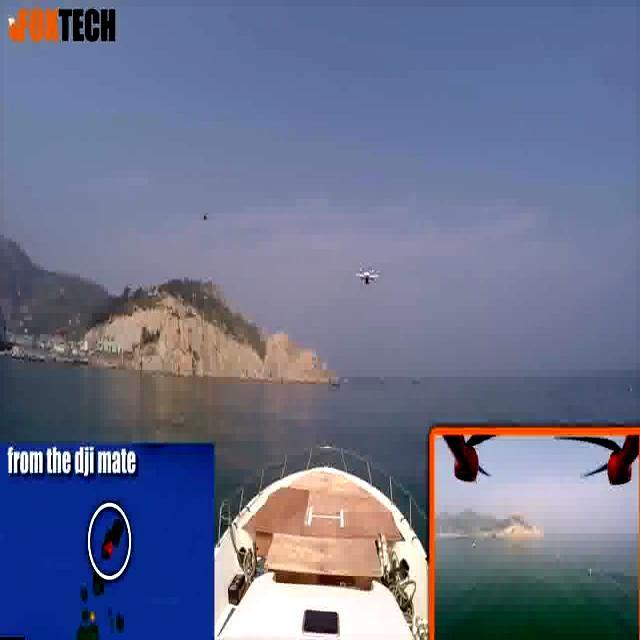drone: (343, 255, 385, 292), (199, 209, 221, 228)
